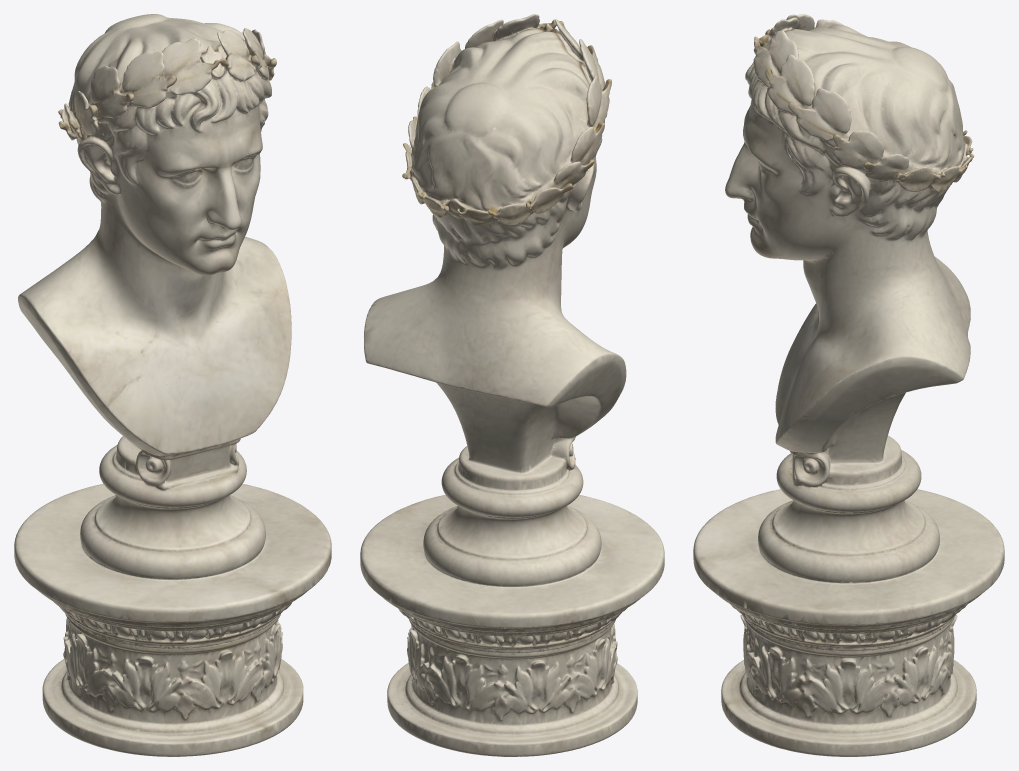
The model's file is bust.glb.
3 views of the same model, side by side, from view 1: azimuth 30°, elevation 25°; view 2: azimuth 150°, elevation 25°; view 3: azimuth 270°, elevation 25° (orthographic). The views are drawn at different scales.
Bounding box in the file's own units: 25815 × 62230 × 25838.
1 material, 1 textured.
